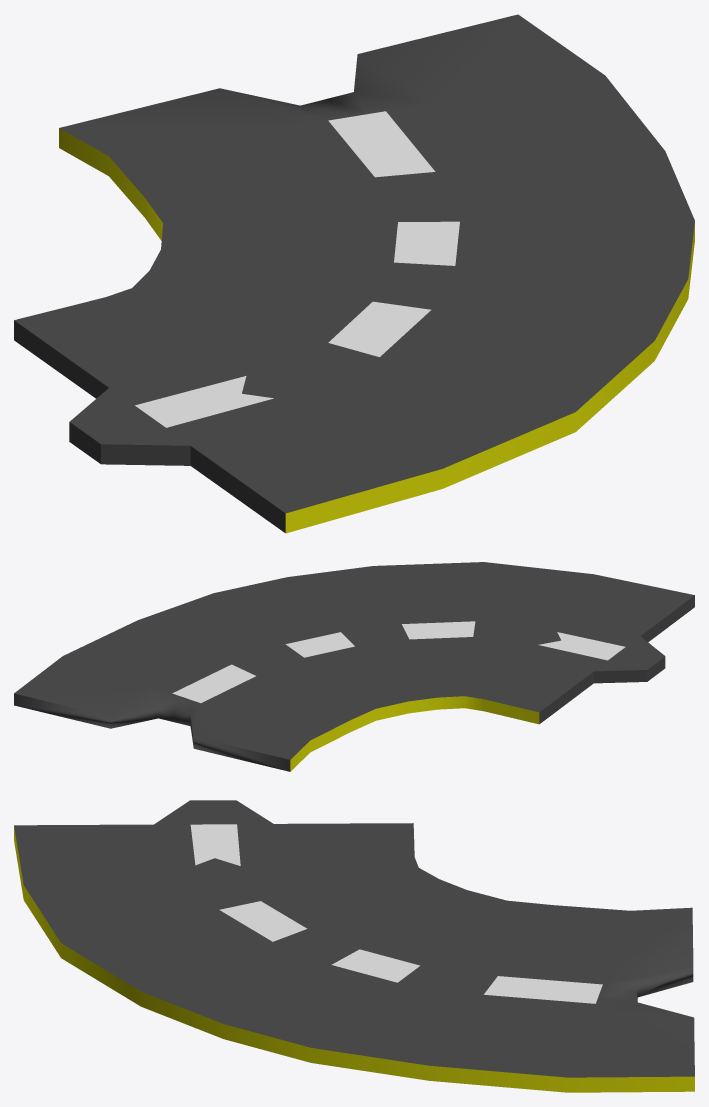
File: Right Track Piece.fbx
3 renders of one model, top to bottom at view 1: azimuth 30°, elevation 25°; view 2: azimuth 150°, elevation 25°; view 3: azimuth 270°, elevation 25°, orthographic. The views are drawn at different scales.
Visible parts, largest first — view 1: New_right_piece1; view 2: New_right_piece1; view 3: New_right_piece1.
Part boxes in pixels (<box>): New_right_piece1: <box>14,14,694,533</box>; New_right_piece1: <box>14,562,694,771</box>; New_right_piece1: <box>14,800,694,1092</box>.
Size of the model in its own units: 14 by 0.357 by 14.52.
